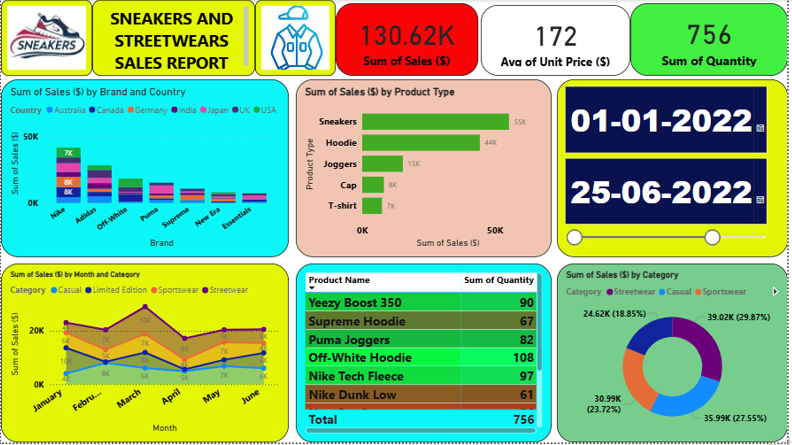

The dashboard page shown, as its layout file describes it:
{"tool":"powerbi","page":{"name":"SUM OF SALES","canvas":[1280,720],"ordinal":0},"visuals":[{"type":"image","box":[0,0,148.3,123.8],"z":0},{"type":"columnChart","fields":{"Y":["Sum(sneakers_streetwear_sales_data.Sales ($))"],"Category":["sneakers_streetwear_sales_data.Brand"],"Series":["sneakers_streetwear_sales_data.Country"]},"box":[0,129.6,468,289.4],"z":0},{"type":"image","box":[413.3,0,131,123.8],"z":1000},{"type":"barChart","fields":{"Y":["Sum(sneakers_streetwear_sales_data.Sales ($))"],"Category":["sneakers_streetwear_sales_data.Product Type"]},"box":[479.5,129.6,416.2,289.4],"z":1000},{"type":"textbox","box":[148.3,0,265,123.8],"z":2000},{"type":"card","fields":{"Values":["Sum(sneakers_streetwear_sales_data.Sales ($))"]},"box":[544.3,5.8,231.8,118.1],"z":2000},{"type":"donutChart","fields":{"Y":["Sum(sneakers_streetwear_sales_data.Sales ($))"],"Category":["sneakers_streetwear_sales_data.Category"]},"box":[904.3,429.1,375.8,290.9],"z":2000},{"type":"tableEx","fields":{"Values":["sneakers_streetwear_sales_data.Product Name","Sum(sneakers_streetwear_sales_data.Quantity)"]},"box":[479.5,429.1,416.2,290.9],"z":3000},{"type":"stackedAreaChart","fields":{"Category":["sneakers_streetwear_sales_data.Date.Variation.Date Hierarchy.Month"],"Y":["Sum(sneakers_streetwear_sales_data.Sales ($))"],"Series":["sneakers_streetwear_sales_data.Category"]},"box":[0,429.1,468,290.9],"z":4000},{"type":"card","fields":{"Values":["Sum(sneakers_streetwear_sales_data.Quantity)"]},"box":[1023.8,5.8,256.3,118.1],"z":5000},{"type":"slicer","fields":{"Values":["sneakers_streetwear_sales_data.Date"]},"box":[904.3,129.6,375.8,289.4],"z":5000},{"type":"card","fields":{"Values":["Avg(sneakers_streetwear_sales_data.Unit Price ($))"]},"box":[780.5,8.6,243.4,115.2],"z":6000}]}

Visuals, with their boxes in screenshot pixels (x1, y1, x2, y2), scaled from the page's 1280x720 canvas onto the 792x445 screenshot:
image: box=[0, 0, 92, 77]
columnChart - Sum(sneakers_streetwear_sales_data.Sales ($)) x sneakers_streetwear_sales_data.Brand: box=[0, 80, 290, 259]
image: box=[256, 0, 337, 77]
barChart - Sum(sneakers_streetwear_sales_data.Sales ($)) x sneakers_streetwear_sales_data.Product Type: box=[297, 80, 554, 259]
textbox: box=[92, 0, 256, 77]
card - Sum(sneakers_streetwear_sales_data.Sales ($)): box=[337, 4, 480, 77]
donutChart - Sum(sneakers_streetwear_sales_data.Sales ($)) x sneakers_streetwear_sales_data.Category: box=[560, 265, 791, 444]
tableEx - sneakers_streetwear_sales_data.Product Name x Sum(sneakers_streetwear_sales_data.Quantity): box=[297, 265, 554, 444]
stackedAreaChart - sneakers_streetwear_sales_data.Date.Variation.Date Hierarchy.Month x Sum(sneakers_streetwear_sales_data.Sales ($)): box=[0, 265, 290, 444]
card - Sum(sneakers_streetwear_sales_data.Quantity): box=[633, 4, 791, 77]
slicer - sneakers_streetwear_sales_data.Date: box=[560, 80, 791, 259]
card - Avg(sneakers_streetwear_sales_data.Unit Price ($)): box=[483, 5, 634, 77]
